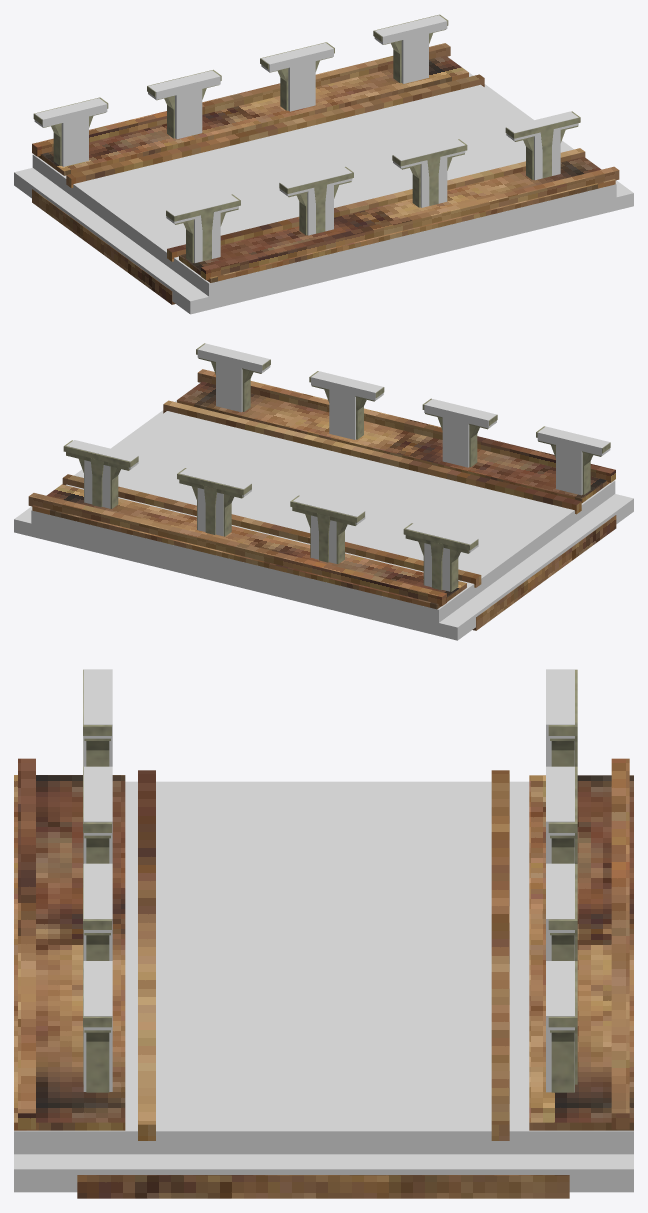
Rendered from bridgeUp.gltf.
3 views of the same model, one above another, from view 1: azimuth 30°, elevation 25°; view 2: azimuth 150°, elevation 25°; view 3: azimuth 270°, elevation 25° (orthographic). The views are drawn at different scales.
Parts seen in each view (by area): view 1: COL.003, 立方体, 立方体.001, COL.004, Cube, COL.007; view 2: COL.003, 立方体, 立方体.001, COL.007, Cube, COL.004; view 3: COL.003, 立方体, 立方体.001, Cube, COL.007, COL.004.
Boxes of the visible parts, <box> form: COL.003: <box>14,64,633,314</box>; 立方体: <box>32,55,615,304</box>; 立方体.001: <box>32,43,619,280</box>; COL.004: <box>34,15,447,166</box>; Cube: <box>33,14,580,262</box>; COL.007: <box>166,111,578,262</box>; COL.003: <box>14,396,633,640</box>; 立方体: <box>32,381,616,630</box>; 立方体.001: <box>28,369,615,606</box>; COL.007: <box>197,343,610,495</box>; Cube: <box>63,343,610,591</box>; COL.004: <box>66,440,478,591</box>; COL.003: <box>14,781,633,1192</box>; 立方体: <box>14,775,633,1198</box>; 立方体.001: <box>18,758,629,1140</box>; Cube: <box>83,669,577,1092</box>; COL.007: <box>83,669,112,1091</box>; COL.004: <box>546,669,574,1092</box>.
Bounding box in the file's own units: 12.87 × 2.39 × 8.85.
2 materials, 2 textured.
